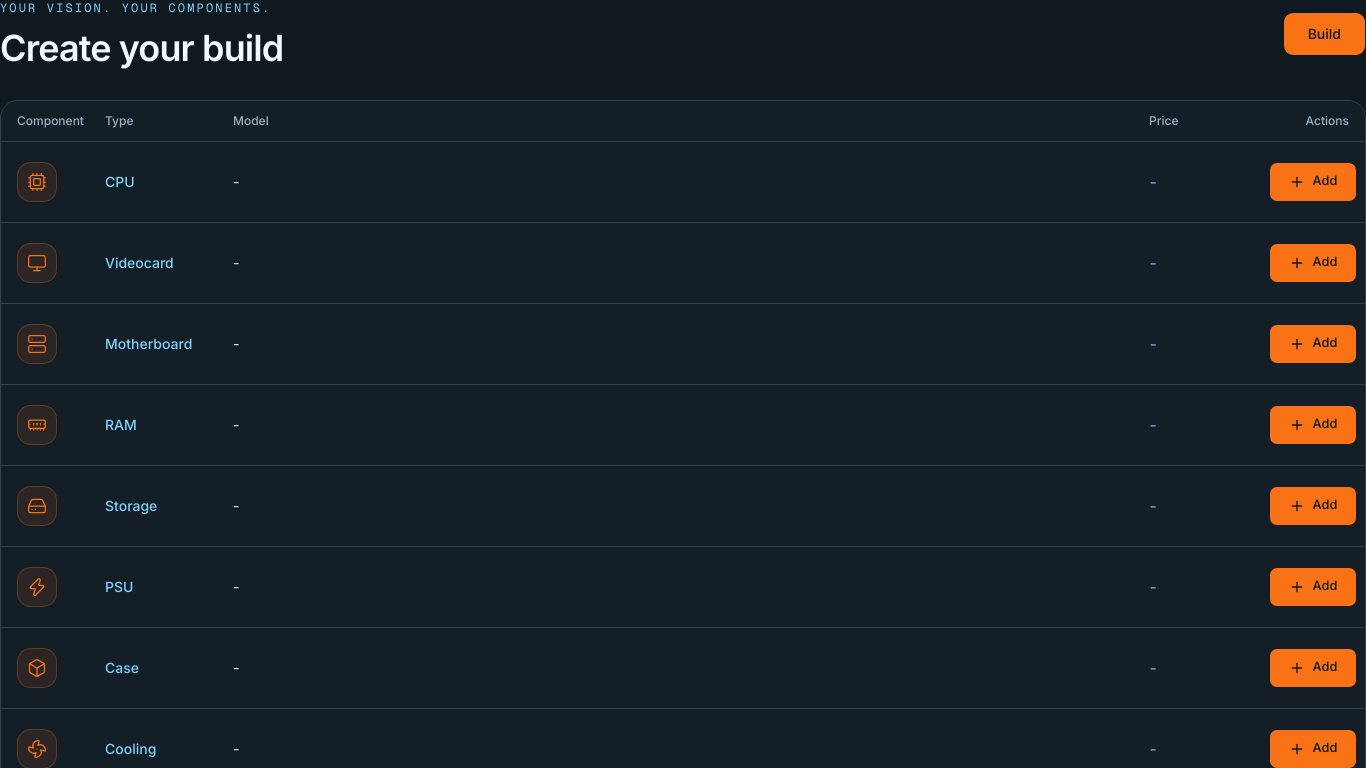
Scenario: CurrentBuild › opens save build dialog after clicking Build button
Expected: the dialog "Save build" is not shown
Click the button "Build": coordinates (1324, 34) [1283,12,1365,56]
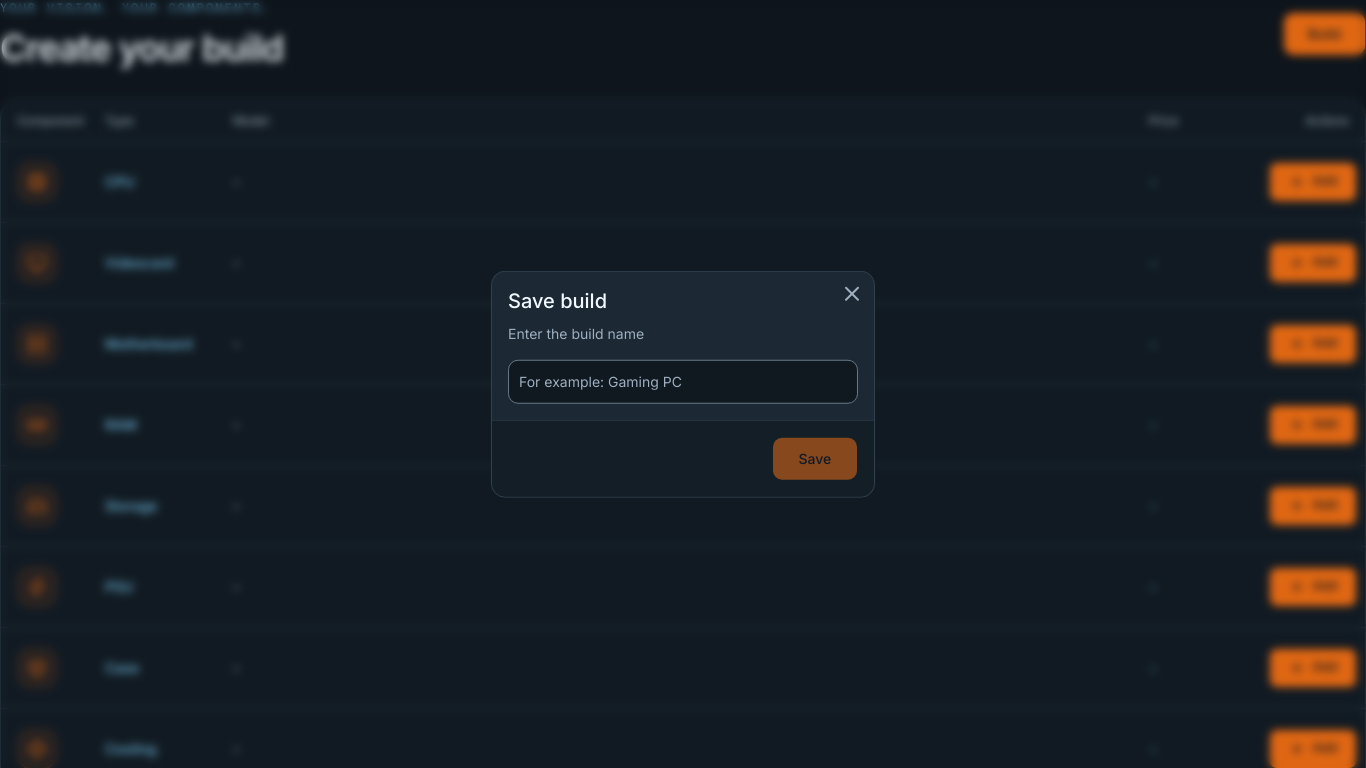
Now the dialog is shown, box [491,271,875,497]
